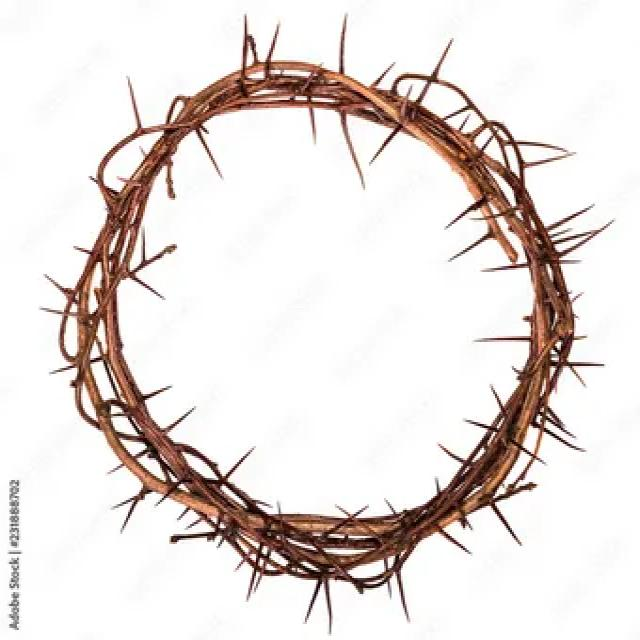crown: (48, 40, 598, 603)
